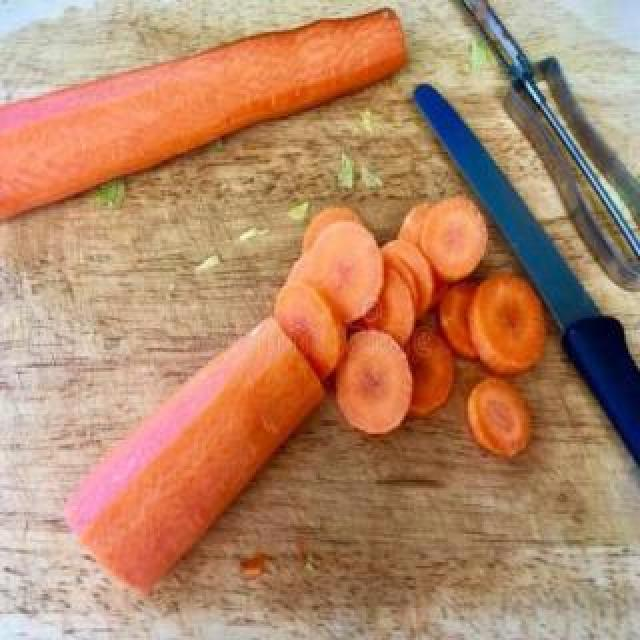Wet: (0, 6, 408, 232), (58, 314, 329, 602)
